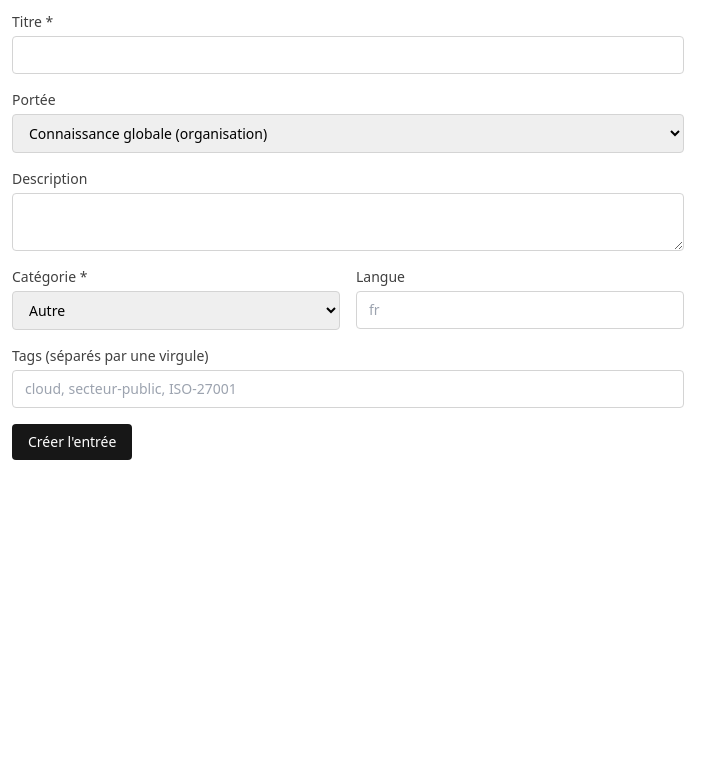
Scenario: CreateKnowledgeEntryForm › reveals CLIENT_REFERENCE metadata fields when that category is selected
Select "Référence client" in the dropdown labelled "Catégorie *" at (176, 310), box [12, 291, 340, 330]
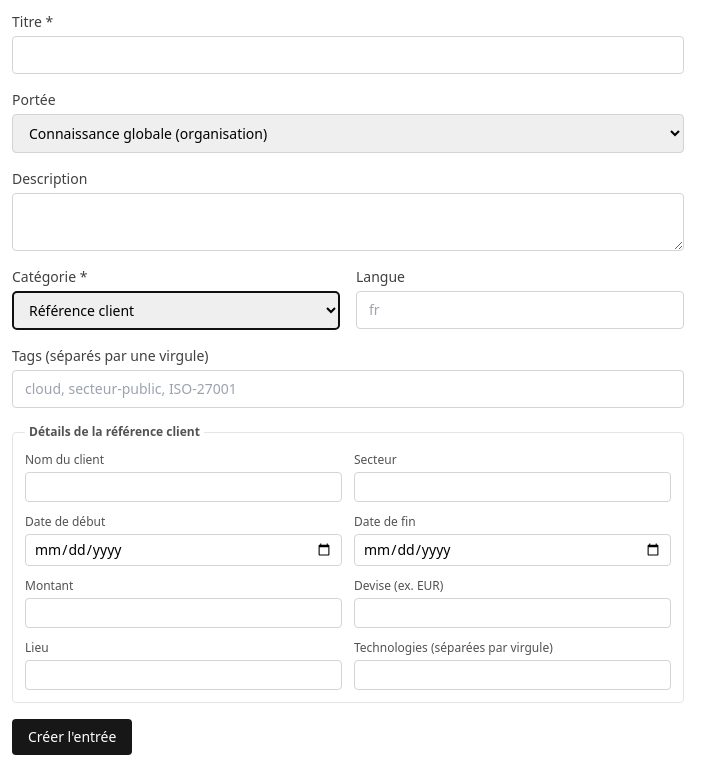
Expected: the field labelled "Nom du client" is shown, [25, 472, 342, 502]
Expected: the field labelled "Devise (ex. EUR)" is shown, [354, 598, 671, 628]
